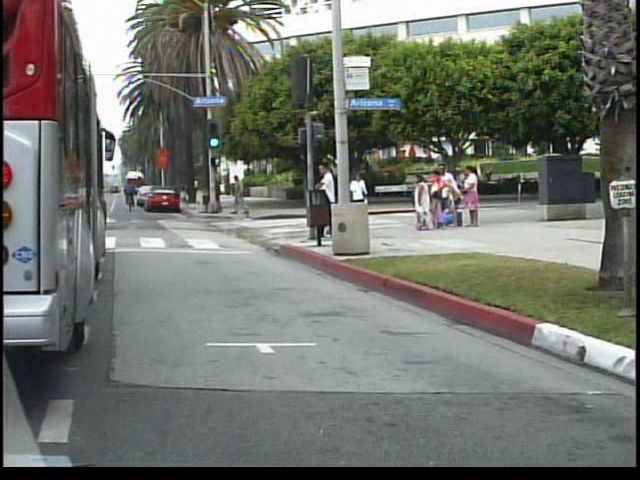person: (317, 158, 342, 241), (351, 167, 374, 231), (232, 170, 253, 217)
